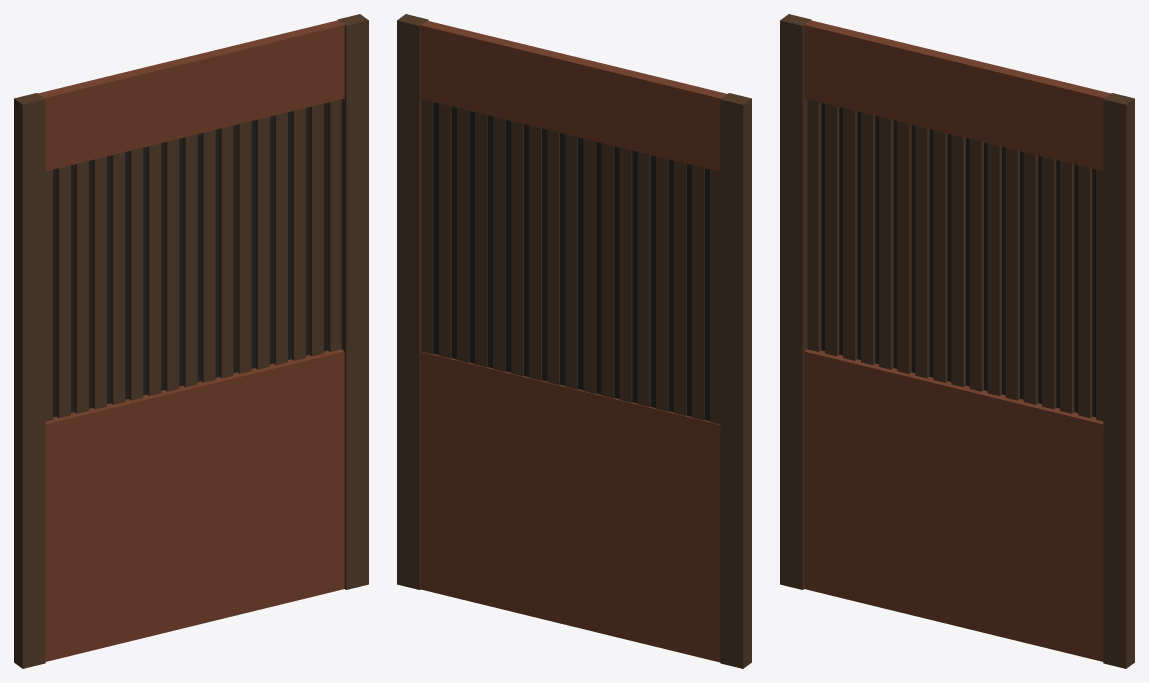
The model's file is H02_Door.fbx.
3 views of the same model, side by side, from view 1: azimuth 30°, elevation 25°; view 2: azimuth 150°, elevation 25°; view 3: azimuth 330°, elevation 25° (orthographic).
Parts seen in each view (by area): view 1: H02_Door_Sliding; view 2: H02_Door_Sliding; view 3: H02_Door_Sliding.
Part boxes in pixels (left/top/right/bottom): H02_Door_Sliding: left=14, top=14, right=368, bottom=668; H02_Door_Sliding: left=397, top=14, right=751, bottom=668; H02_Door_Sliding: left=780, top=14, right=1134, bottom=668.
Bounding box in the file's own units: 120 × 187 × 5.3.
